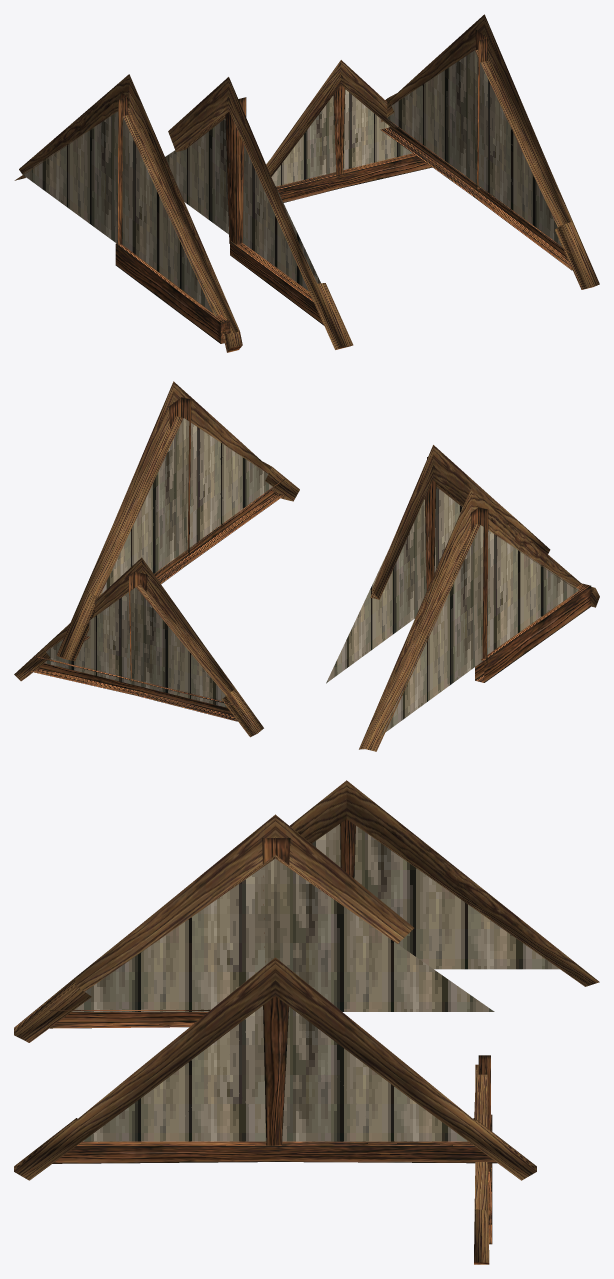
The model's file is LAKETOWN_EXTERIOR_PS_LT_ROOFPARTS747__GX.fbx.
3 views of the same model, one above another, from view 1: azimuth 30°, elevation 25°; view 2: azimuth 150°, elevation 25°; view 3: azimuth 270°, elevation 25° (orthographic). The views are drawn at different scales.
Parts seen in each view (by area): view 1: LAKETOWN_EXTERIOR_PS_LT_ROOFPARTS747__GX; view 2: LAKETOWN_EXTERIOR_PS_LT_ROOFPARTS747__GX; view 3: LAKETOWN_EXTERIOR_PS_LT_ROOFPARTS747__GX.
Boxes of the visible parts, x1=… form: LAKETOWN_EXTERIOR_PS_LT_ROOFPARTS747__GX: x1=14, y1=14, x2=599, y2=352; LAKETOWN_EXTERIOR_PS_LT_ROOFPARTS747__GX: x1=14, y1=381, x2=599, y2=751; LAKETOWN_EXTERIOR_PS_LT_ROOFPARTS747__GX: x1=14, y1=780, x2=599, y2=1264.
Bounding box in the file's own units: 76200 × 43711 × 84125.
Materials: 5 (5 with a texture image).
